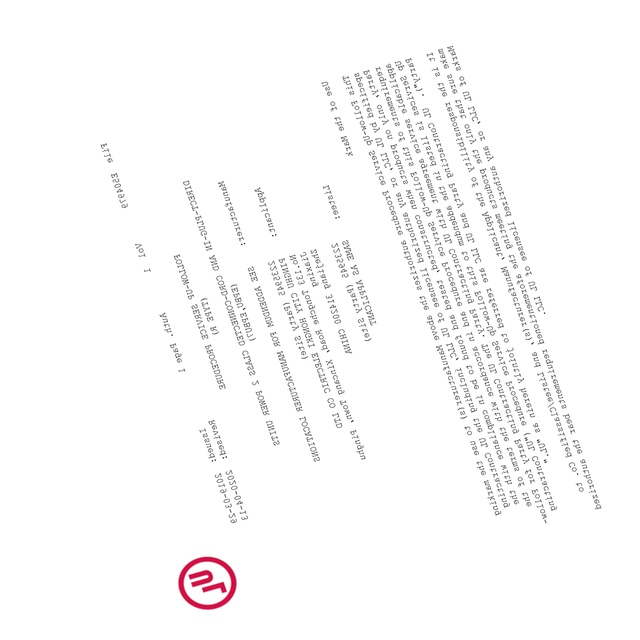ul: (177, 555, 239, 610)
